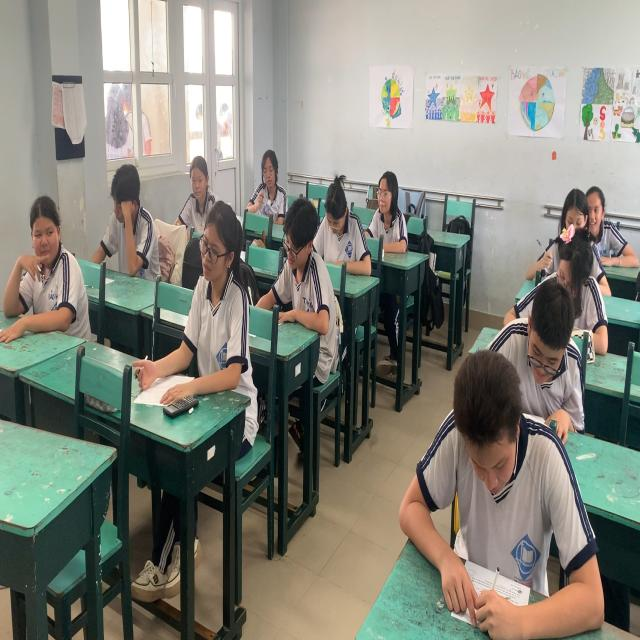cheating: (0, 178, 87, 345)
not_cheating: (400, 351, 583, 640), (510, 285, 585, 451), (194, 198, 261, 374), (92, 154, 159, 282), (274, 193, 331, 322), (558, 226, 610, 352), (360, 158, 412, 262), (314, 174, 370, 266), (583, 180, 636, 273), (242, 140, 284, 230), (184, 150, 222, 227), (557, 184, 588, 236)
